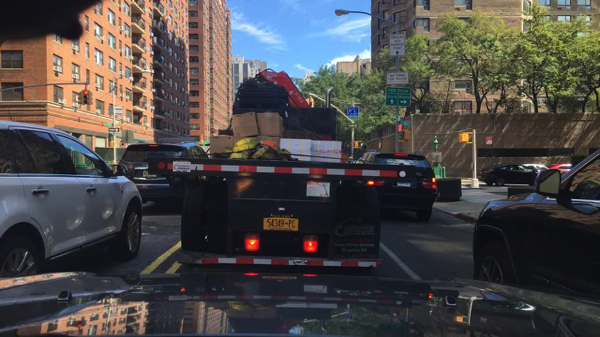car: (0, 120, 145, 281), (471, 151, 599, 301), (116, 141, 208, 209), (356, 150, 438, 221), (478, 165, 536, 186), (550, 161, 574, 175), (528, 163, 551, 171)
traffic light: (83, 90, 92, 105), (459, 132, 468, 143), (306, 97, 315, 108), (353, 140, 364, 148), (401, 131, 409, 141), (77, 91, 81, 104), (109, 141, 114, 147)
traffic sign: (385, 87, 411, 108), (389, 33, 405, 56), (386, 71, 408, 83), (347, 106, 358, 121), (400, 119, 412, 127), (114, 105, 122, 115), (485, 137, 492, 146), (346, 125, 358, 129), (108, 128, 119, 132), (396, 125, 403, 131), (105, 123, 113, 127)
truck: (147, 68, 418, 279)
